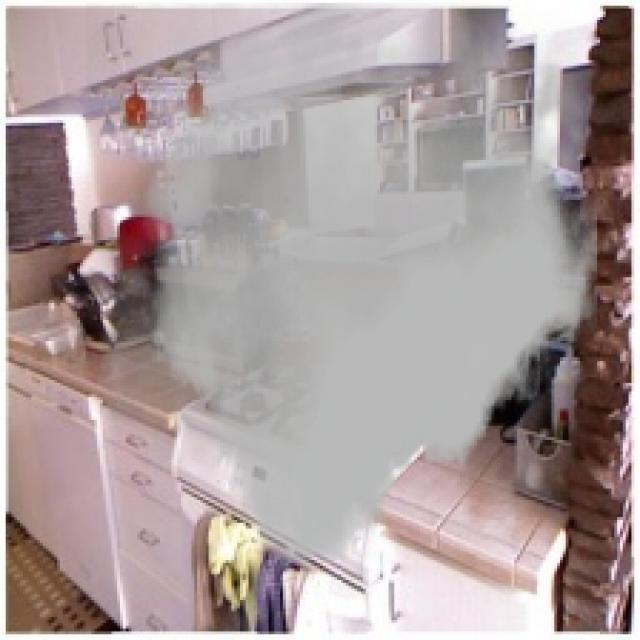Smoke: (85, 3, 606, 563)
